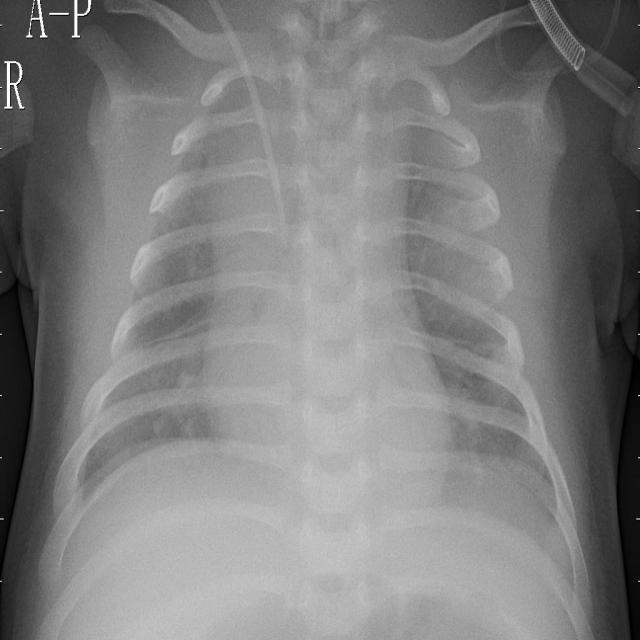high-pneumonia: (214, 103, 283, 314), (419, 174, 430, 216)
